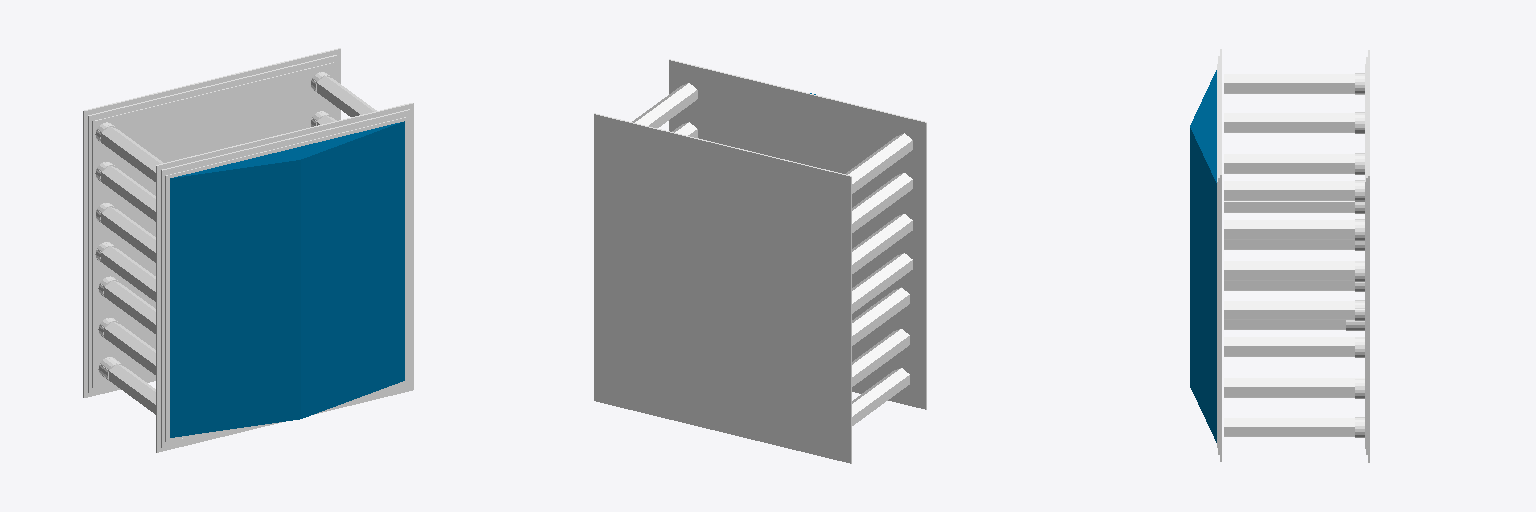
Rendered from tinker.obj.
The picture shows the model from 3 angles: view 1: azimuth 30°, elevation 25°; view 2: azimuth 150°, elevation 25°; view 3: azimuth 270°, elevation 25°; orthographic projection.
Parts seen in each view (by area): view 1: obj_0; view 2: obj_0; view 3: obj_0.
Boxes of the visible parts, box(x1,y1,x2,y2) form: obj_0: box(83, 48, 413, 452); obj_0: box(594, 59, 926, 463); obj_0: box(1190, 49, 1369, 462).
Bounding box in the file's own units: 276 × 293 × 167.